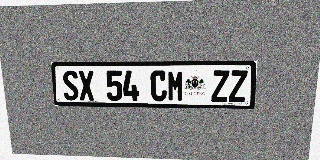4: (122, 70, 139, 101)
5: (106, 70, 123, 101)
C: (150, 70, 167, 101)
M: (167, 70, 184, 101)
S: (62, 71, 79, 100)
X: (78, 71, 95, 101)
Z: (229, 70, 248, 102), (211, 70, 229, 102)
